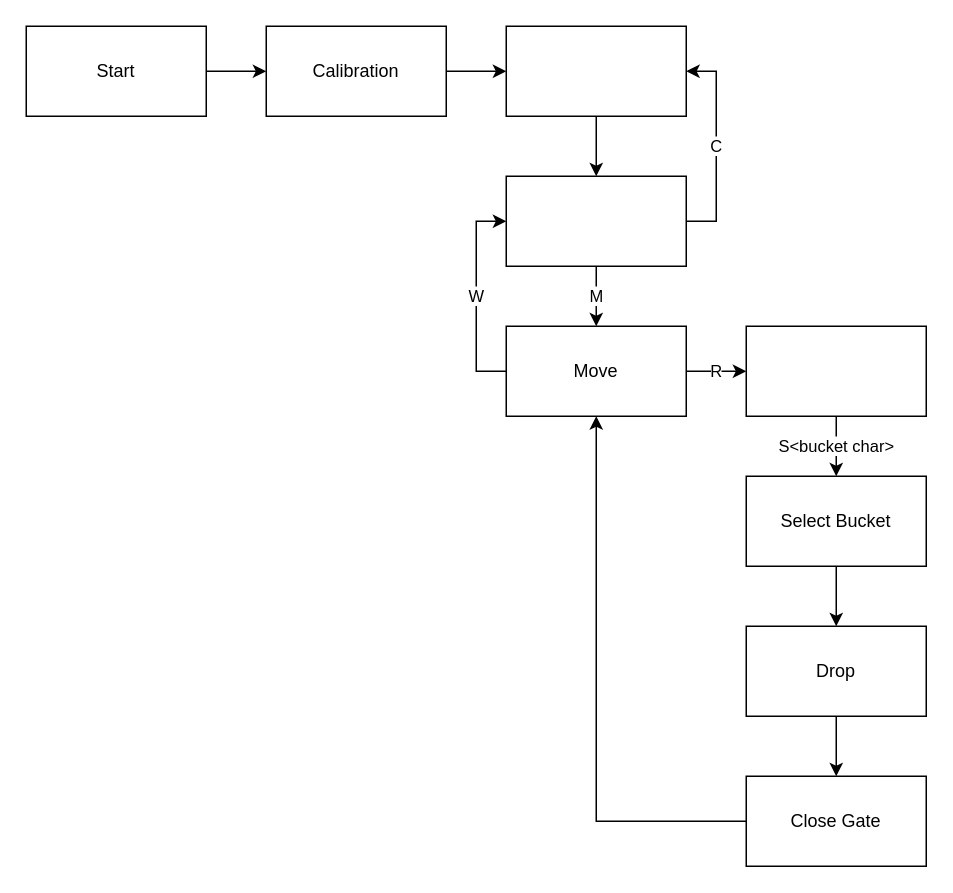
This 953x893 diagram has some shape labels left out. The shapes that lost their labels are listed below. From the top down, each one's centre as x and y in pixels, then its label:
pixel 595 70: Clean
pixel 595 220: Wait
pixel 835 370: Recognize
